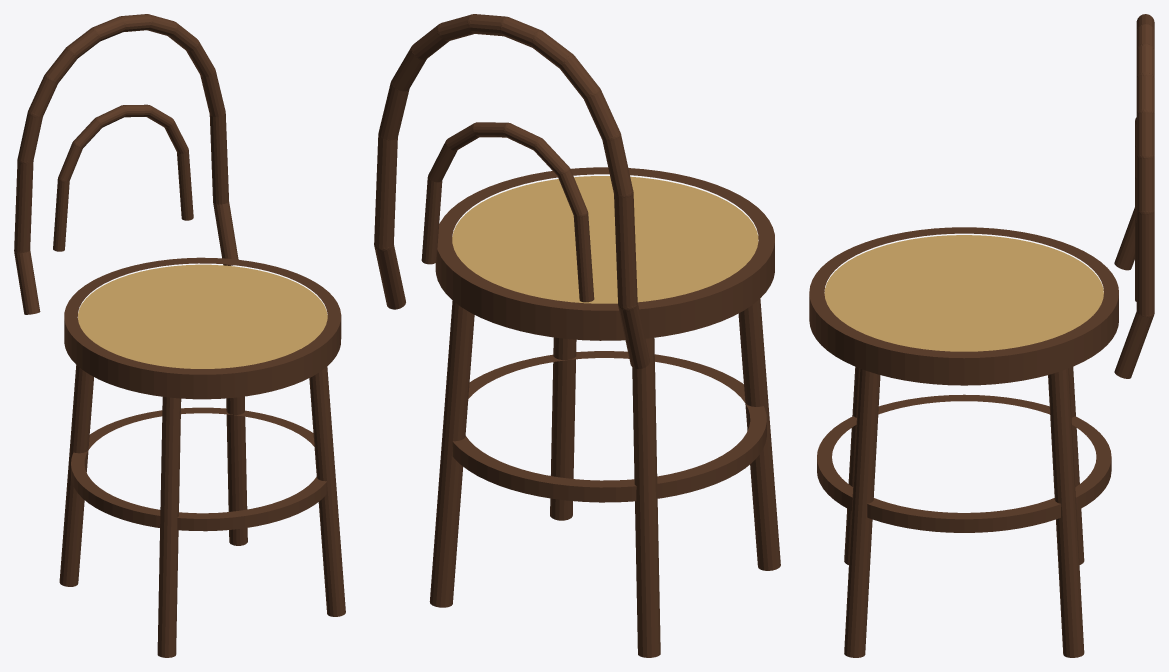
The model's file is 069_cafe_bentwood_style_chair.glb.
3 views of the same model, side by side, from view 1: azimuth 30°, elevation 25°; view 2: azimuth 150°, elevation 25°; view 3: azimuth 270°, elevation 25° (orthographic). The views are drawn at different scales.
Parts seen in each view (by area): view 1: 001_seat_panel, 000_seat_rim, 011_bent_back_loop, 010_leg_ring, 004_leg, 002_leg, 012_inner_back_loop, 006_leg, 008_leg; view 2: 001_seat_panel, 000_seat_rim, 011_bent_back_loop, 010_leg_ring, 006_leg, 008_leg, 012_inner_back_loop, 004_leg, 002_leg; view 3: 001_seat_panel, 000_seat_rim, 010_leg_ring, 011_bent_back_loop, 002_leg, 008_leg, 004_leg, 006_leg.
Boxes of the visible parts, x1=… form: 001_seat_panel: x1=78, y1=264, x2=327, y2=368; 000_seat_rim: x1=64, y1=257, x2=341, y2=399; 011_bent_back_loop: x1=14, y1=14, x2=238, y2=314; 010_leg_ring: x1=71, y1=407, x2=327, y2=531; 004_leg: x1=157, y1=397, x2=181, y2=657; 002_leg: x1=309, y1=367, x2=345, y2=616; 012_inner_back_loop: x1=53, y1=104, x2=193, y2=251; 006_leg: x1=59, y1=365, x2=93, y2=586; 008_leg: x1=226, y1=396, x2=247, y2=545; 001_seat_panel: x1=452, y1=176, x2=758, y2=303; 000_seat_rim: x1=435, y1=167, x2=774, y2=340; 011_bent_back_loop: x1=374, y1=14, x2=649, y2=368; 010_leg_ring: x1=452, y1=351, x2=766, y2=502; 006_leg: x1=632, y1=338, x2=660, y2=657; 008_leg: x1=429, y1=301, x2=474, y2=607; 012_inner_back_loop: x1=421, y1=122, x2=594, y2=302; 004_leg: x1=738, y1=299, x2=780, y2=570; 002_leg: x1=550, y1=337, x2=576, y2=520; 001_seat_panel: x1=824, y1=235, x2=1103, y2=351; 000_seat_rim: x1=809, y1=227, x2=1118, y2=385; 010_leg_ring: x1=817, y1=394, x2=1111, y2=532; 011_bent_back_loop: x1=1114, y1=14, x2=1154, y2=378; 002_leg: x1=844, y1=368, x2=880, y2=657; 008_leg: x1=1048, y1=368, x2=1084, y2=657; 004_leg: x1=844, y1=367, x2=859, y2=564; 006_leg: x1=1069, y1=367, x2=1084, y2=564.
Size of the model in its own units: 0.41 by 0.853 by 0.457.
